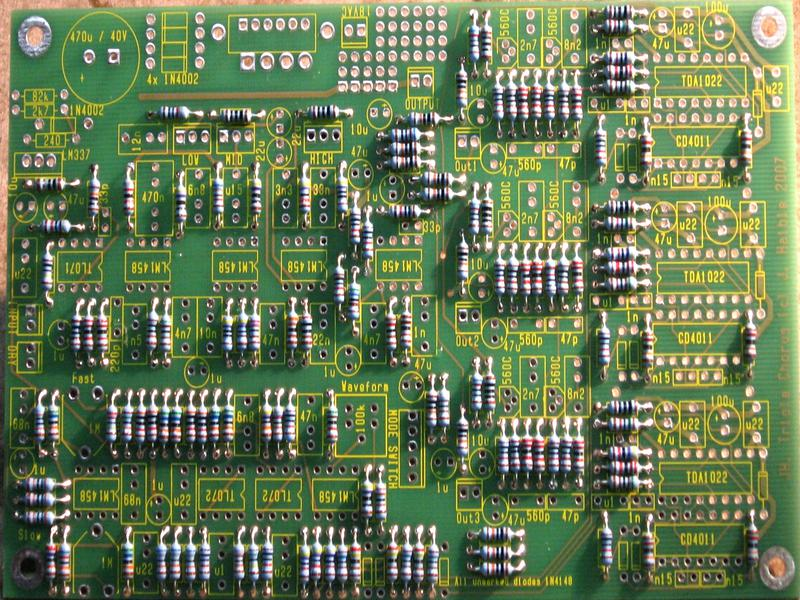resistor: (295, 171, 316, 221), (324, 397, 342, 451), (298, 307, 317, 355), (399, 306, 418, 354), (119, 536, 137, 586), (322, 536, 339, 588), (744, 522, 764, 566), (259, 393, 274, 451), (401, 108, 449, 126), (738, 124, 756, 172), (476, 524, 519, 544), (639, 528, 659, 571), (284, 305, 300, 358), (489, 81, 507, 128), (597, 524, 615, 571), (599, 18, 641, 38), (347, 200, 364, 249), (572, 431, 589, 480), (95, 311, 114, 354), (740, 321, 759, 364), (207, 401, 224, 449), (259, 538, 276, 586), (592, 124, 609, 172), (425, 541, 442, 589), (360, 218, 378, 263), (334, 169, 351, 216), (347, 278, 364, 325), (639, 128, 656, 175), (454, 416, 471, 463), (306, 101, 342, 123), (85, 174, 102, 219), (222, 401, 239, 446), (386, 202, 426, 221), (215, 107, 257, 125), (309, 538, 325, 585), (516, 256, 532, 303), (46, 401, 63, 445), (159, 313, 177, 354), (384, 538, 400, 584), (284, 399, 299, 448), (479, 193, 496, 236), (482, 371, 499, 414), (331, 261, 346, 309), (541, 80, 557, 125), (600, 79, 640, 97), (412, 539, 427, 587), (416, 171, 458, 188), (546, 432, 561, 479), (382, 310, 398, 354), (570, 81, 586, 124), (374, 478, 390, 521), (599, 199, 642, 215), (570, 253, 586, 296), (19, 491, 59, 508), (102, 405, 119, 445), (604, 399, 644, 416), (184, 401, 199, 446), (248, 176, 264, 218), (155, 538, 169, 586), (557, 79, 571, 127), (360, 476, 374, 524), (600, 218, 642, 234), (57, 540, 74, 579), (273, 398, 286, 449), (119, 403, 134, 447), (466, 21, 481, 65), (198, 539, 213, 583), (600, 246, 644, 261), (144, 308, 158, 355), (196, 401, 210, 448), (247, 541, 261, 588), (455, 239, 469, 286), (505, 254, 519, 301), (42, 538, 58, 579), (210, 176, 226, 217), (606, 459, 647, 475), (121, 175, 136, 218), (597, 3, 640, 18), (41, 248, 55, 294), (31, 399, 45, 445), (530, 257, 546, 297), (231, 541, 245, 586), (556, 254, 571, 296), (534, 432, 548, 477), (21, 511, 58, 528), (480, 24, 496, 63), (454, 67, 468, 111), (174, 183, 189, 224), (145, 403, 160, 444), (169, 404, 184, 445), (385, 126, 426, 141), (417, 188, 458, 203), (605, 444, 646, 459), (605, 476, 646, 491), (34, 174, 70, 191), (38, 217, 74, 234), (184, 539, 197, 586), (234, 313, 250, 351), (424, 386, 438, 429), (597, 323, 611, 366), (81, 313, 96, 353), (156, 104, 196, 119), (477, 563, 517, 578), (298, 540, 311, 586), (220, 314, 234, 356), (157, 402, 171, 444), (438, 384, 451, 429), (400, 539, 413, 584), (473, 546, 518, 559), (468, 371, 481, 416), (641, 329, 656, 368), (496, 433, 509, 478), (531, 78, 543, 126), (509, 431, 521, 479), (504, 81, 517, 125), (21, 476, 59, 491), (604, 418, 642, 433), (468, 196, 482, 236), (601, 64, 641, 78), (386, 143, 429, 156), (517, 81, 530, 124), (170, 538, 182, 584), (560, 432, 572, 478), (600, 262, 642, 275), (493, 253, 505, 298), (337, 539, 349, 584), (250, 314, 264, 351), (69, 312, 81, 354), (599, 50, 641, 62), (545, 256, 557, 298), (135, 403, 146, 446), (387, 156, 426, 168), (522, 432, 532, 477)
